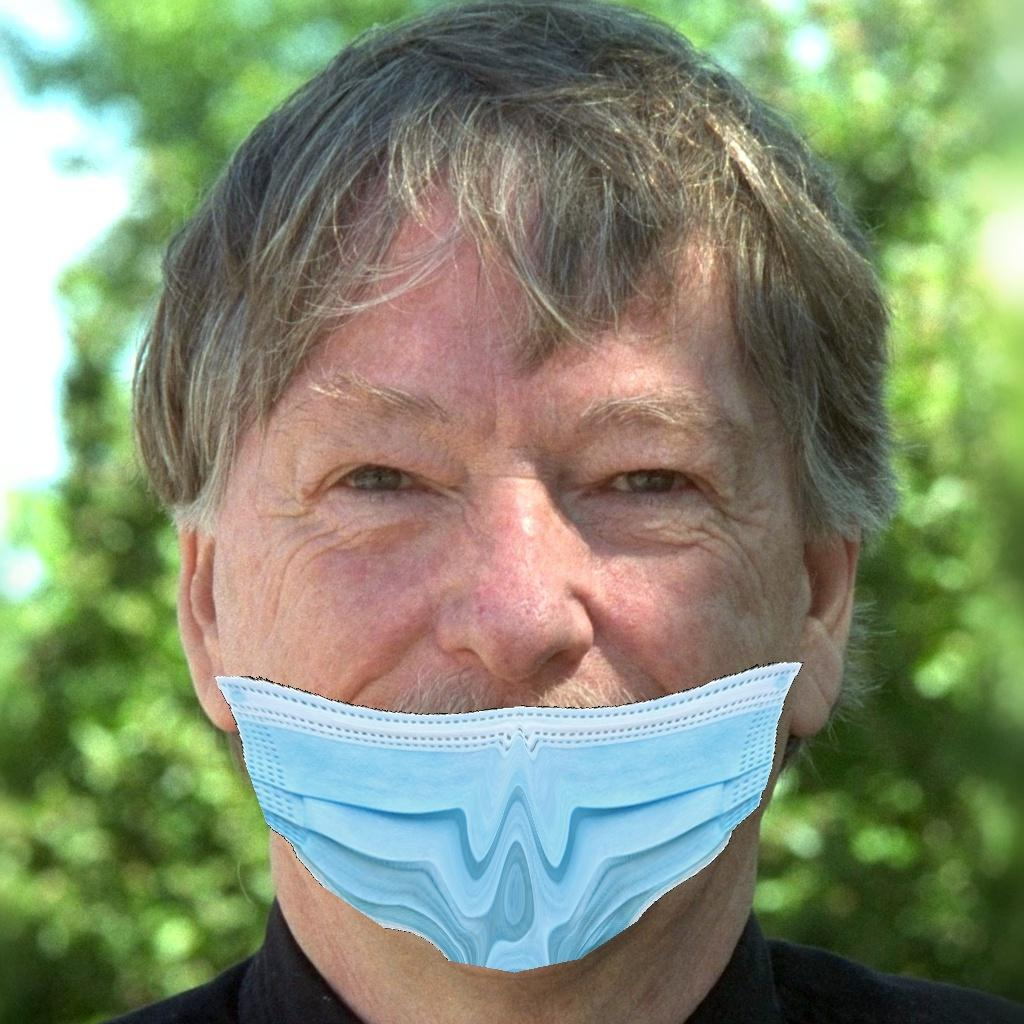Máscara Incorreta: (212, 333, 827, 953)
